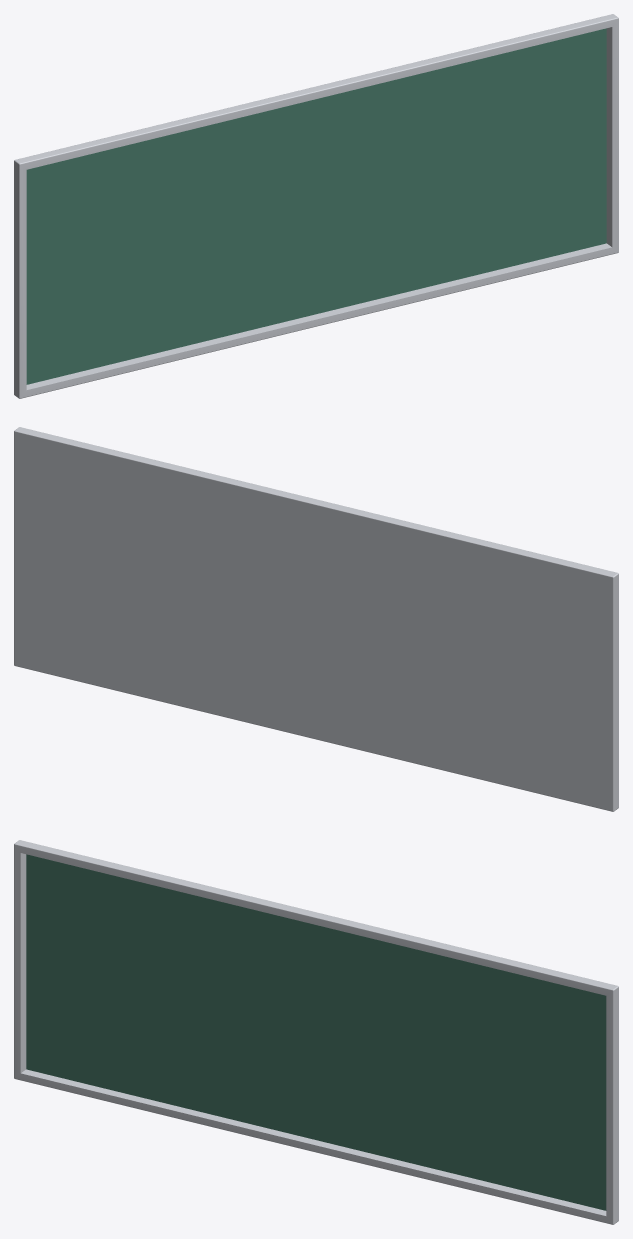
The model's file is LOUSA.fbx.
The picture shows the model from 3 angles, top to bottom: view 1: azimuth 30°, elevation 25°; view 2: azimuth 150°, elevation 25°; view 3: azimuth 330°, elevation 25°; orthographic projection.
Parts seen in each view (by area): view 1: pCube1; view 2: pCube1; view 3: pCube1.
Boxes of the visible parts, x1,y1,x2,y2 form: pCube1: (14,14,618,398); pCube1: (14,427,618,811); pCube1: (14,840,618,1224).
Size of the model in its own units: 600 by 225 by 10.
